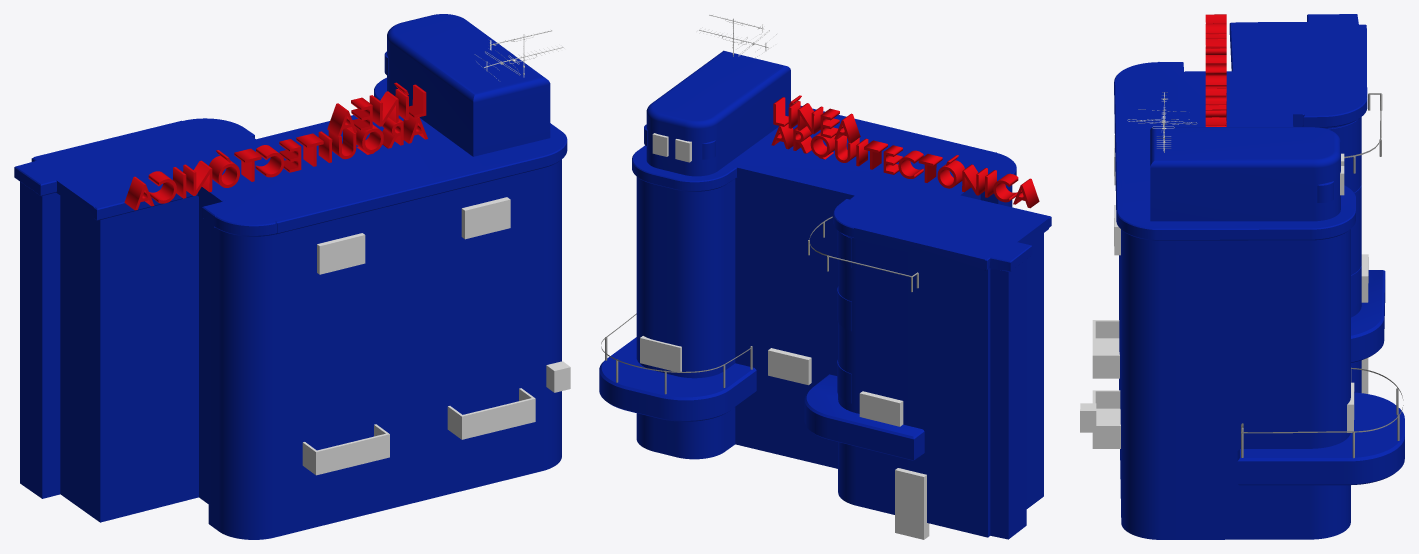
File: Bauhaus.glb
3 views of the same model, side by side, from view 1: azimuth 30°, elevation 25°; view 2: azimuth 150°, elevation 25°; view 3: azimuth 270°, elevation 25° (orthographic). The views are drawn at different scales.
Visible parts, largest first — view 1: BauhausTop, RoofCube, Text, BalconyBoxR, BlaconyBoxLeft, Cube.004, Cube.001, Cube.016; view 2: BauhausTop, RoofCube, Text, BalconyFat, BlaconyThinIn, Cube, Cube.010, Cube.013, Cube.007; view 3: BauhausTop, RoofCube, BalconyFat, Text, BlaconyThinIn, BlaconyBoxLeft, BalconyBoxR, BauhausTop.004, Cube.016, Antenna, BezierCurve.
Part boxes in pixels (left/top/right/bottom): BauhausTop: left=14, top=77, right=567, bottom=539; RoofCube: left=387, top=14, right=550, bottom=156; Text: left=124, top=82, right=427, bottom=210; BalconyBoxR: left=447, top=388, right=535, bottom=439; BlaconyBoxLeft: left=302, top=424, right=389, bottom=475; Cube.004: left=461, top=197, right=510, bottom=239; Cube.001: left=317, top=233, right=365, bottom=274; Cube.016: left=546, top=361, right=570, bottom=392; BauhausTop: left=632, top=105, right=1051, bottom=539; RoofCube: left=646, top=50, right=790, bottom=176; Text: left=771, top=95, right=1039, bottom=208; BalconyFat: left=599, top=337, right=756, bottom=421; BlaconyThinIn: left=804, top=374, right=924, bottom=460; Cube: left=895, top=468, right=929, bottom=539; Cube.010: left=768, top=348, right=811, bottom=385; Cube.013: left=859, top=391, right=903, bottom=426; Cube.007: left=640, top=336, right=681, bottom=371; BauhausTop: left=1114, top=14, right=1367, bottom=539; RoofCube: left=1150, top=127, right=1340, bottom=221; BalconyFat: left=1237, top=392, right=1404, bottom=485; Text: left=1205, top=14, right=1226, bottom=126; BlaconyThinIn: left=1351, top=270, right=1385, bottom=362; BlaconyBoxLeft: left=1092, top=320, right=1119, bottom=378; BalconyBoxR: left=1092, top=390, right=1120, bottom=448; BauhausTop.004: left=1328, top=117, right=1361, bottom=159; Cube.016: left=1080, top=403, right=1096, bottom=432; Antenna: left=1127, top=92, right=1197, bottom=152; BezierCurve: left=1241, top=367, right=1403, bottom=433.
Bounding box in the file's own units: 3.05 × 2.76 × 1.88.
